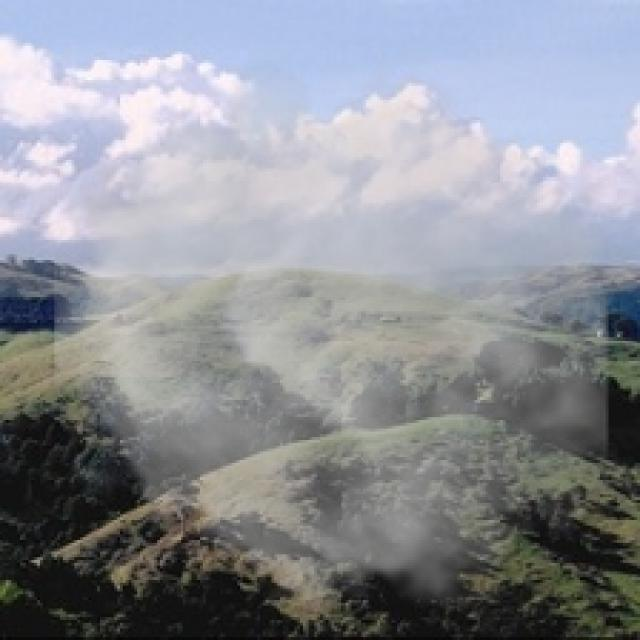smoke: (54, 60, 609, 629)
